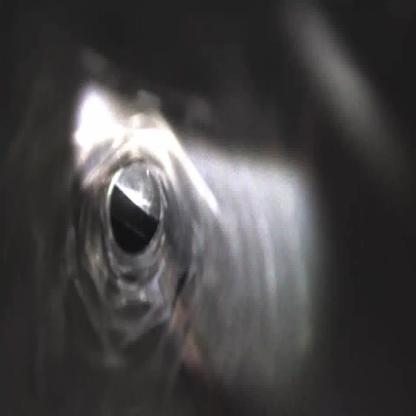Crack: (67, 111, 209, 341)
